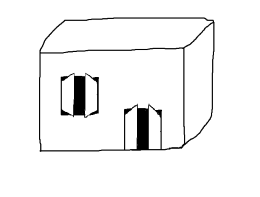closed_window: (59, 73, 99, 118)
door: (119, 100, 168, 155)
roof: (39, 17, 214, 53)
wall: (35, 46, 188, 156)
